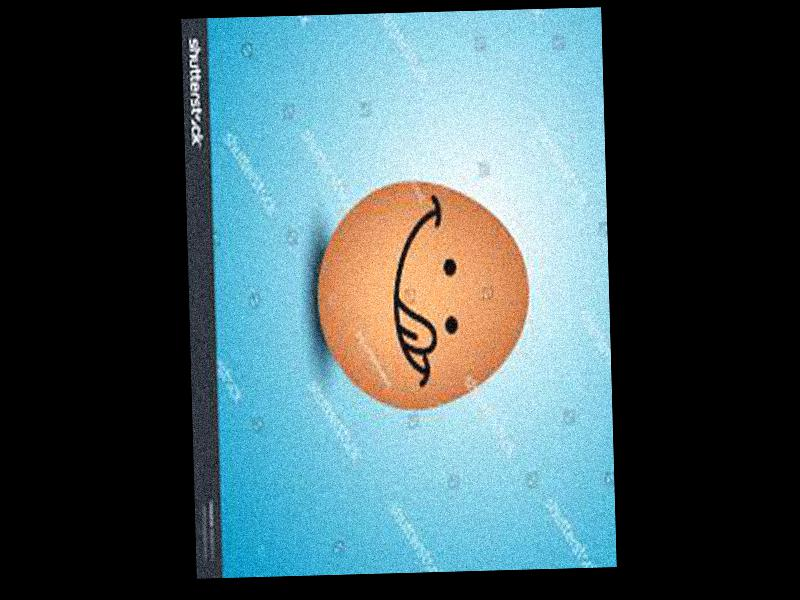Eggs: (314, 177, 532, 412)
